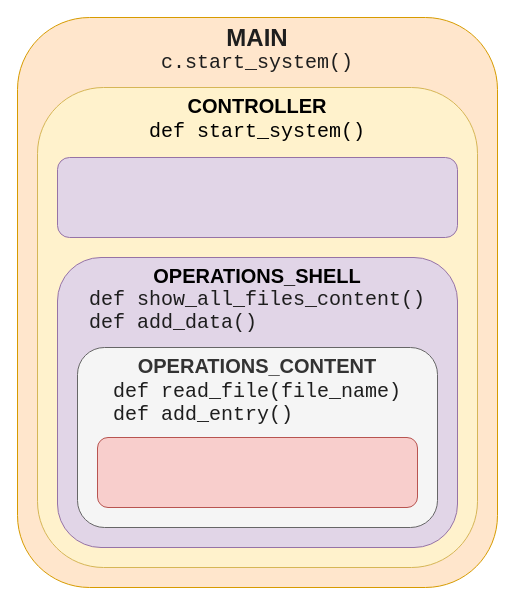
This 515x605 diagram has some shape labels left out. Here are the shapes that lost their labels. From the top down, the centre of each, then its label:
pixel 257 197: UI def show_instructions() def user_command()
pixel 257 472: LOGGER def add_log_entry(data)
